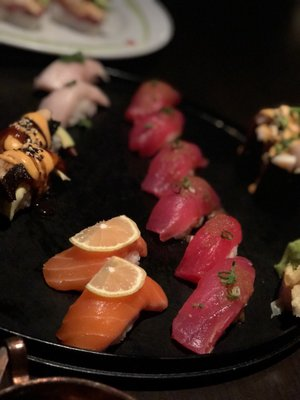taco: (54, 257, 169, 352), (41, 214, 147, 292), (86, 256, 146, 298)
